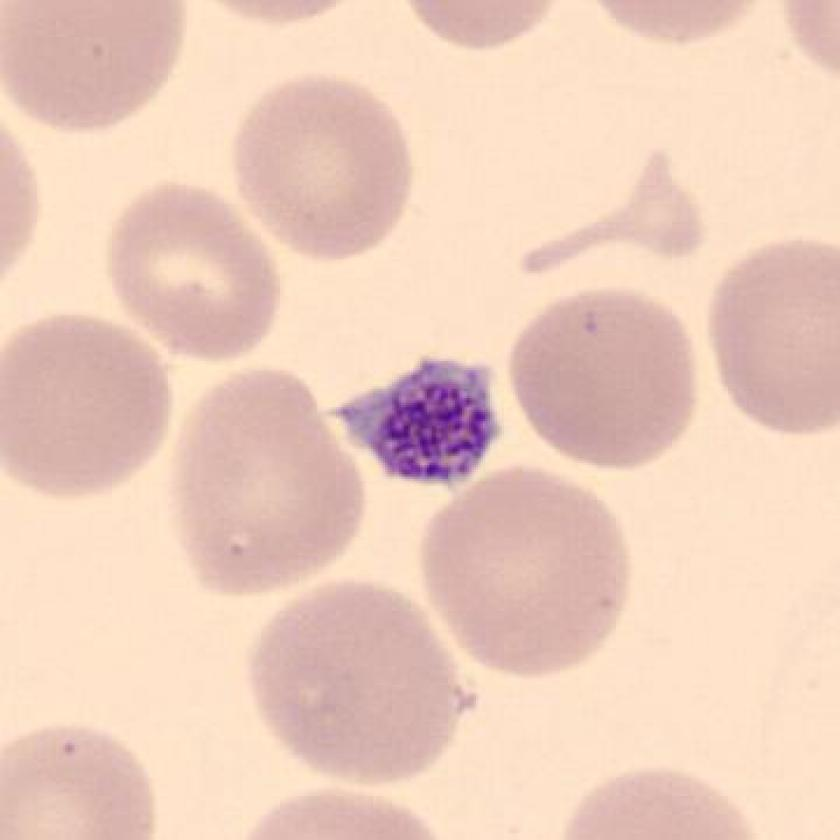platelets: (339, 358, 505, 490)
